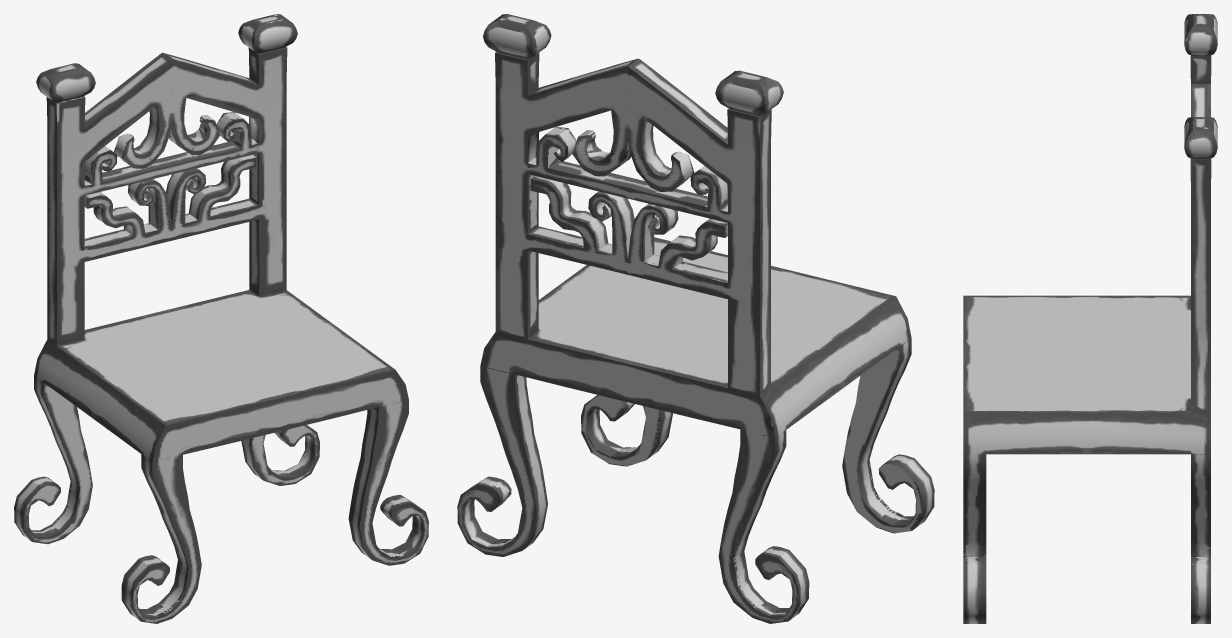
Rendered from SILLA.fbx.
The picture shows the model from 3 angles, left to right: view 1: azimuth 30°, elevation 25°; view 2: azimuth 150°, elevation 25°; view 3: azimuth 270°, elevation 25°; orthographic projection. The views are drawn at different scales.
Parts seen in each view (by area): view 1: Cube.001; view 2: Cube.001; view 3: Cube.001.
Boxes of the visible parts, x1,y1,x2,y2 form: Cube.001: (14, 14, 428, 623); Cube.001: (457, 14, 934, 623); Cube.001: (963, 14, 1217, 623).
Size of the model in its own units: 697 by 1048 by 495.
Materials: 1 (1 with a texture image).
